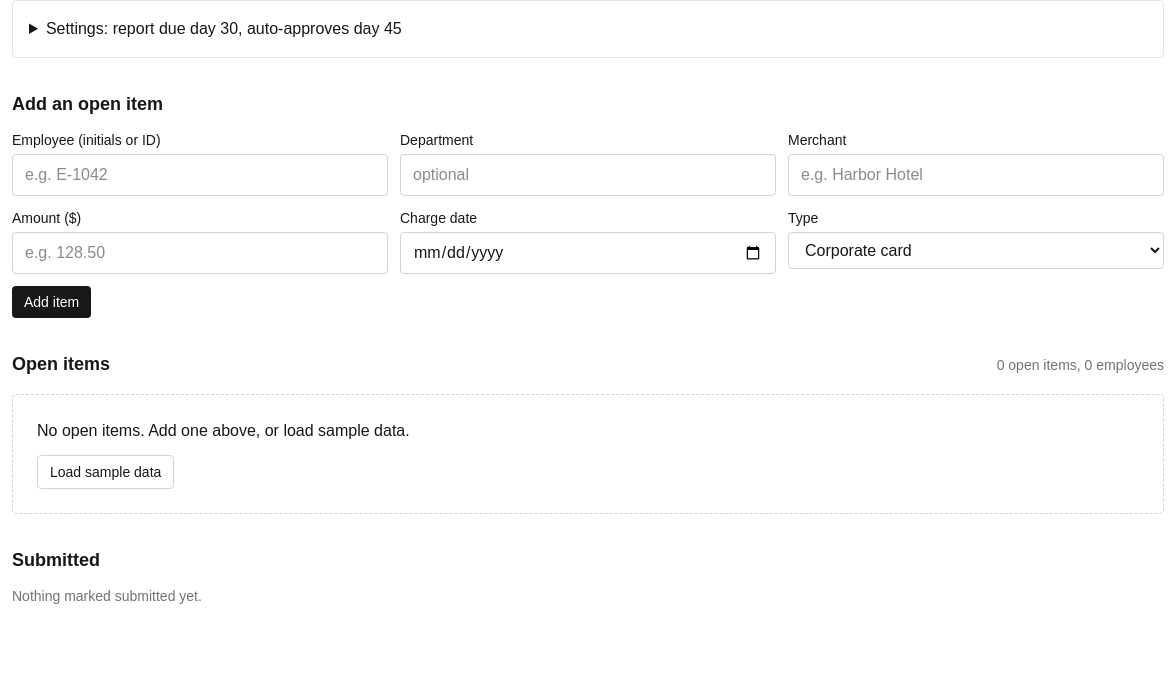
it: Tracker › shows the empty state, and sample data fills the list (S1 criterion 9)
The image size is (1176, 698).
Expected: the text "No open items. Add one above, or load sample data." is shown, [37,419,410,443]
What coordinates should you click on to do the following:
click the button "Load sample data"
I would click on:
 (106, 472)
Its box is [37,455,174,489].
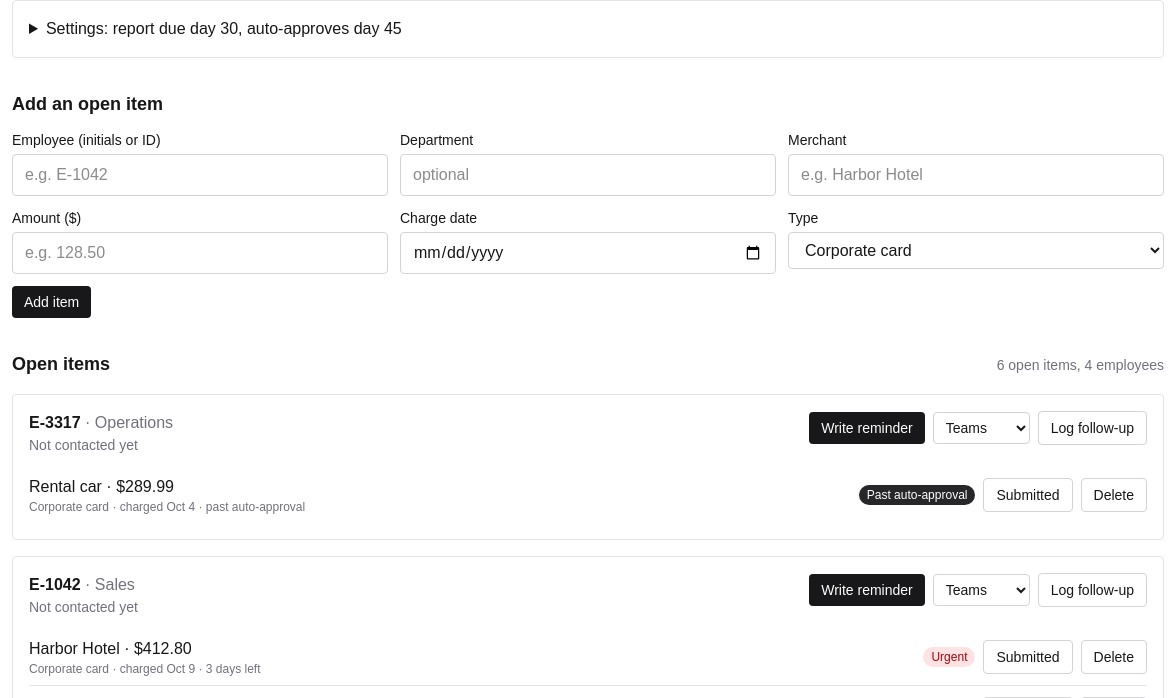
Expected: the text "6 open items, 4 employees" is shown, [997,355,1164,375]
